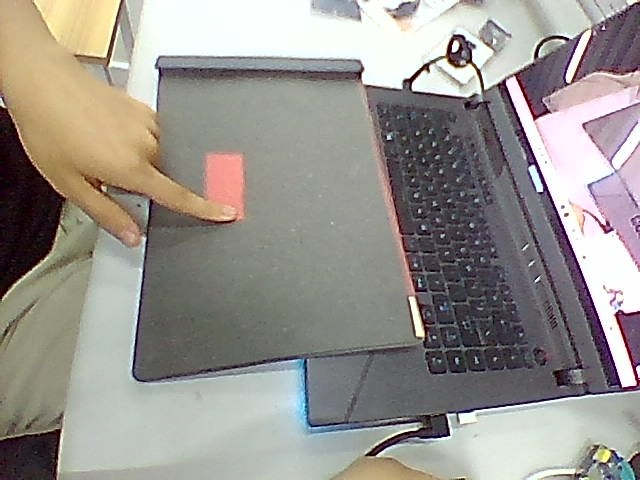card: (206, 152, 242, 220)
